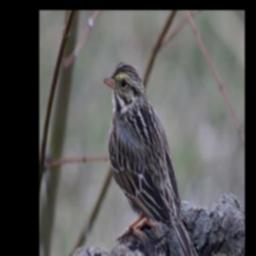Sparrow: (101, 58, 201, 256)
